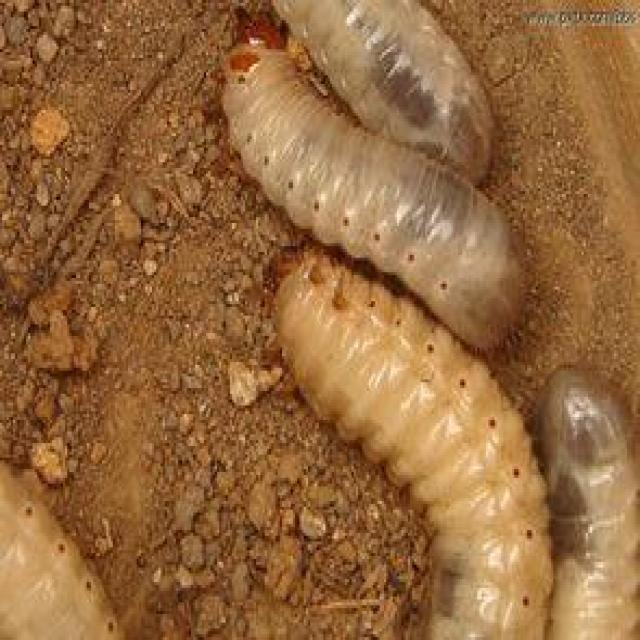Grub-Adult-: (226, 30, 542, 349)
